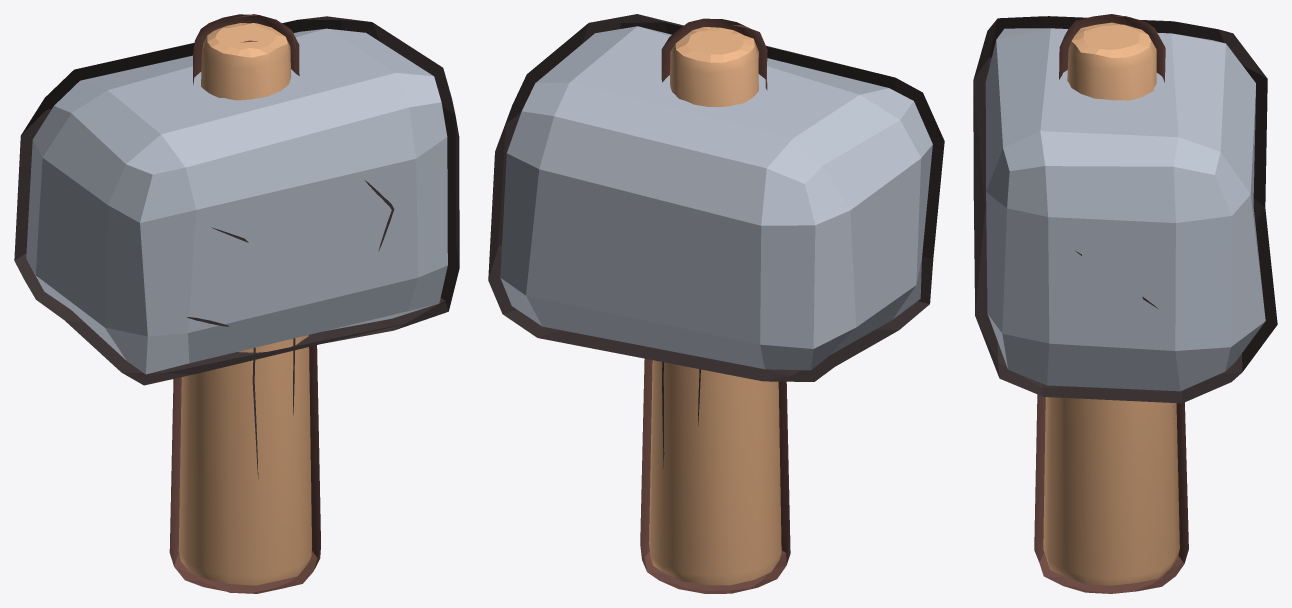
File: hammer.glb
3 views of the same model, side by side, from view 1: azimuth 30°, elevation 25°; view 2: azimuth 150°, elevation 25°; view 3: azimuth 270°, elevation 25° (orthographic).
Visible parts, largest first — view 1: Body, Outline; view 2: Body, Outline; view 3: Body, Outline.
Part boxes in pixels (x1,y1,x2,y2): Body: [26, 23, 447, 585]; Outline: [14, 14, 459, 593]; Body: [500, 26, 932, 585]; Outline: [488, 14, 944, 593]; Body: [985, 22, 1265, 585]; Outline: [973, 14, 1277, 593].
Size of the model in its own units: 0.7204 by 1 by 0.5082.
